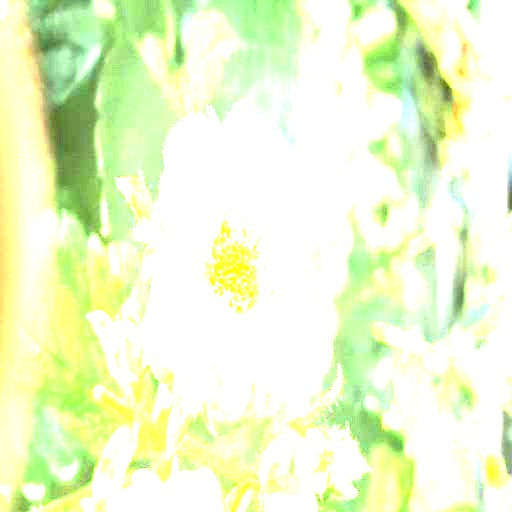Blossom Blight: (193, 201, 285, 330)
